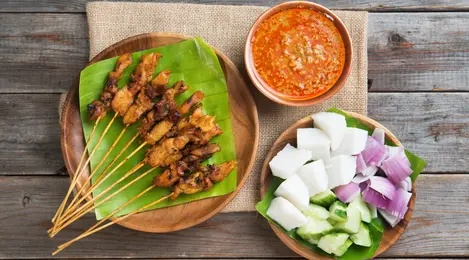sate: (84, 50, 238, 201)
